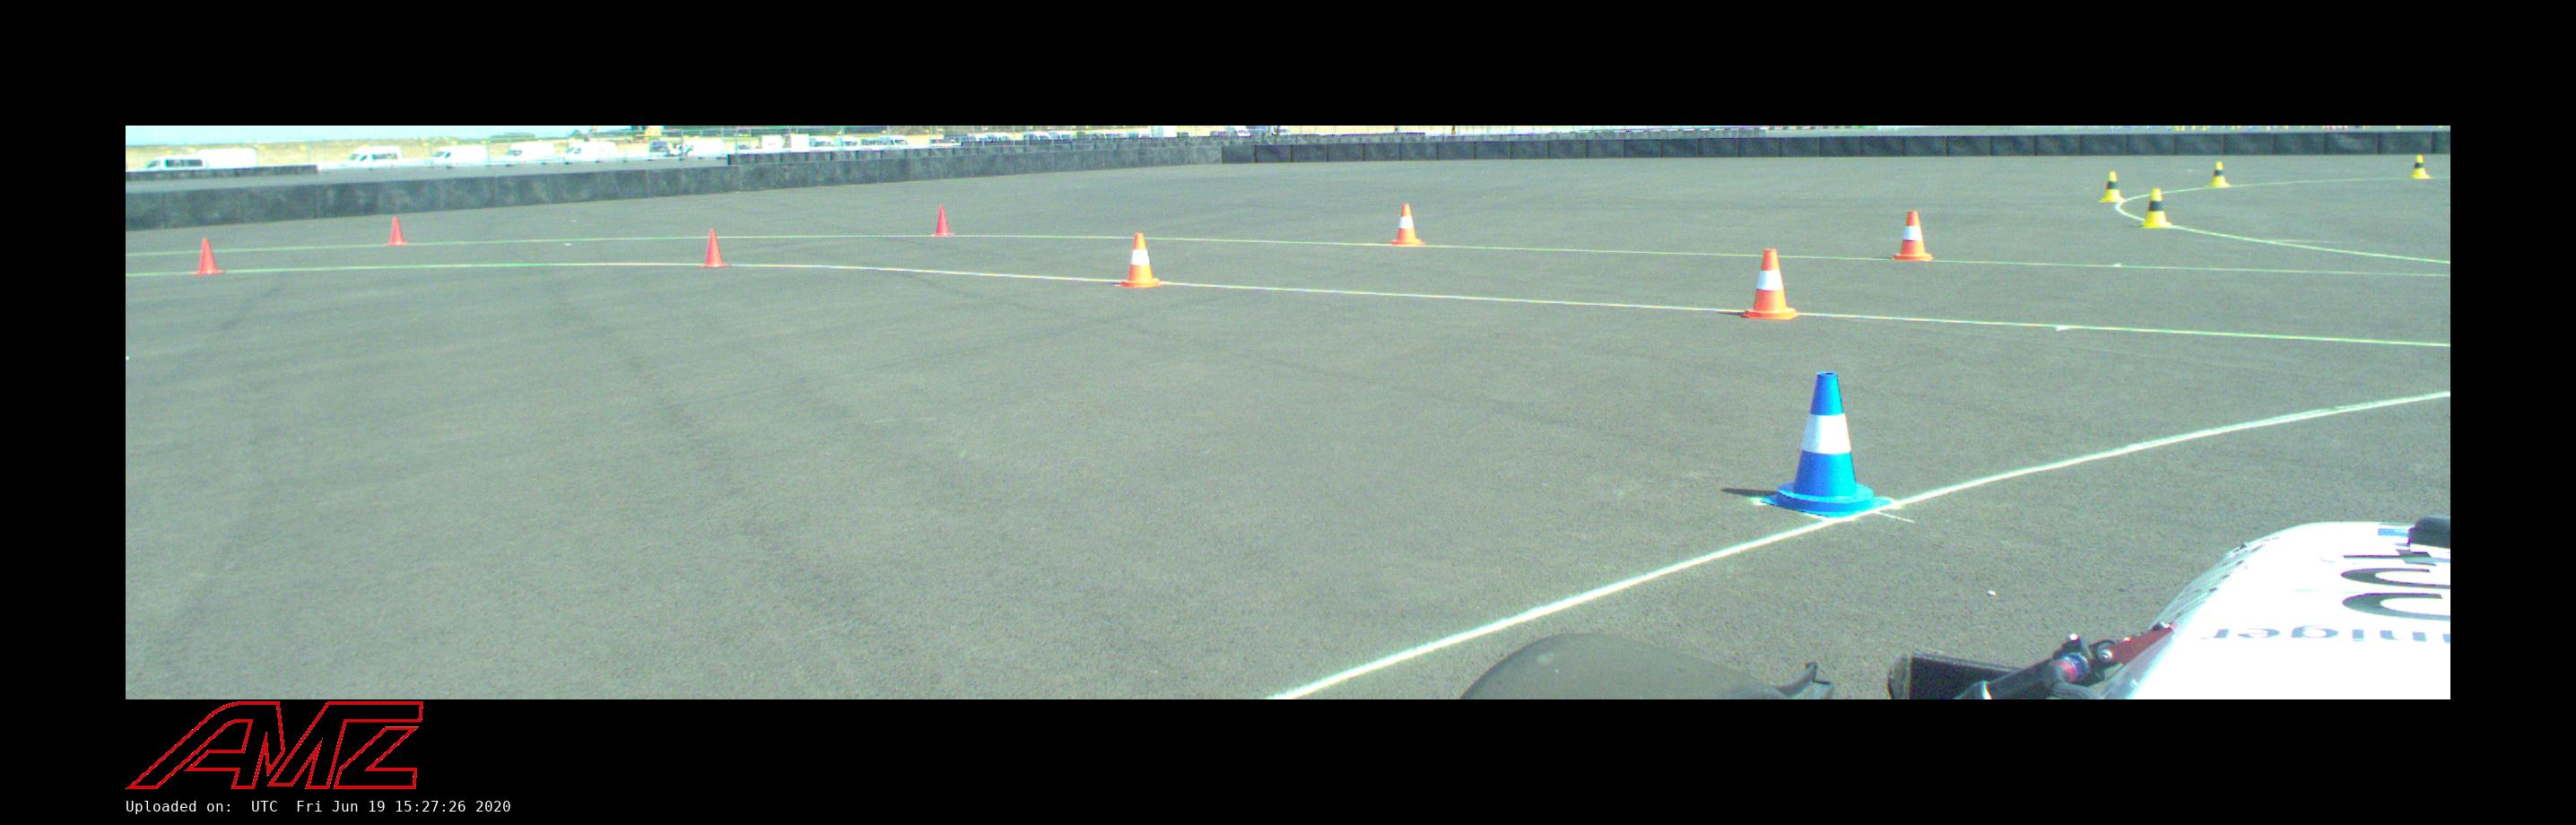blue_cone: (1761, 371, 1891, 516)
orange_cone: (1740, 250, 1799, 320), (1889, 212, 1934, 261), (1119, 233, 1158, 286), (1388, 204, 1423, 247)
unknown_cone: (697, 228, 728, 268), (192, 238, 223, 274), (930, 207, 955, 237), (384, 217, 407, 245)
yellow_cone: (2139, 189, 2170, 228), (2100, 171, 2123, 202), (2210, 161, 2229, 186), (2410, 154, 2430, 177)
